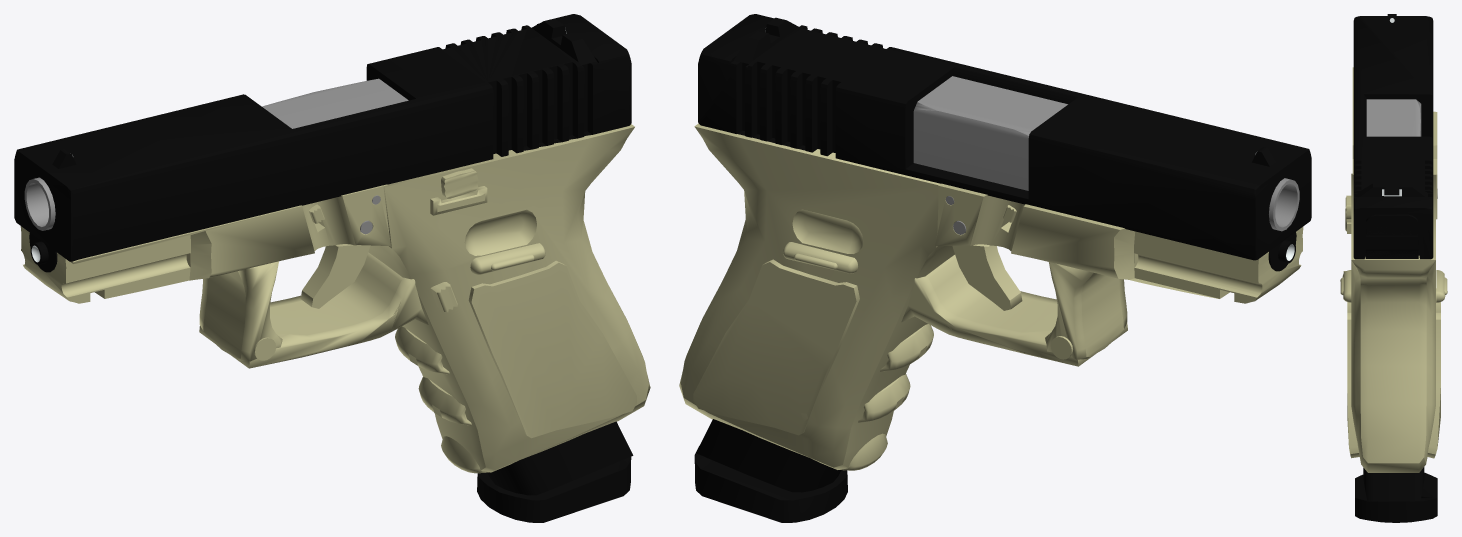
The model's file is glock.FBX.
The picture shows the model from 3 angles, left to right: view 1: azimuth 30°, elevation 25°; view 2: azimuth 150°, elevation 25°; view 3: azimuth 270°, elevation 25°; orthographic projection. The views are drawn at different scales.
Visible parts, largest first — view 1: Box002, Box001, Cylinder001; view 2: Box002, Box001, Cylinder001; view 3: Box002, Box001, Cylinder001.
Boxes of the visible parts, x1,y1,x2,y2 form: Box002: (20,78,650,473); Box001: (14,14,631,272); Cylinder001: (477,421,633,522); Box002: (679,76,1303,470); Box001: (698,14,1311,271); Cylinder001: (694,419,847,522); Box002: (1340,67,1447,472); Box001: (1353,14,1433,259); Cylinder001: (1355,467,1437,522).
Size of the model in its own units: 6.73 by 4.98 by 1.49.
